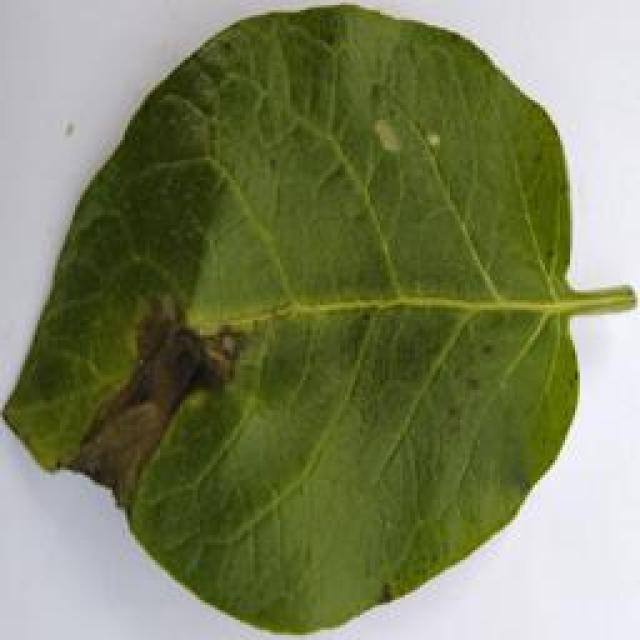Potato_Late_Blight: (5, 6, 626, 634)
